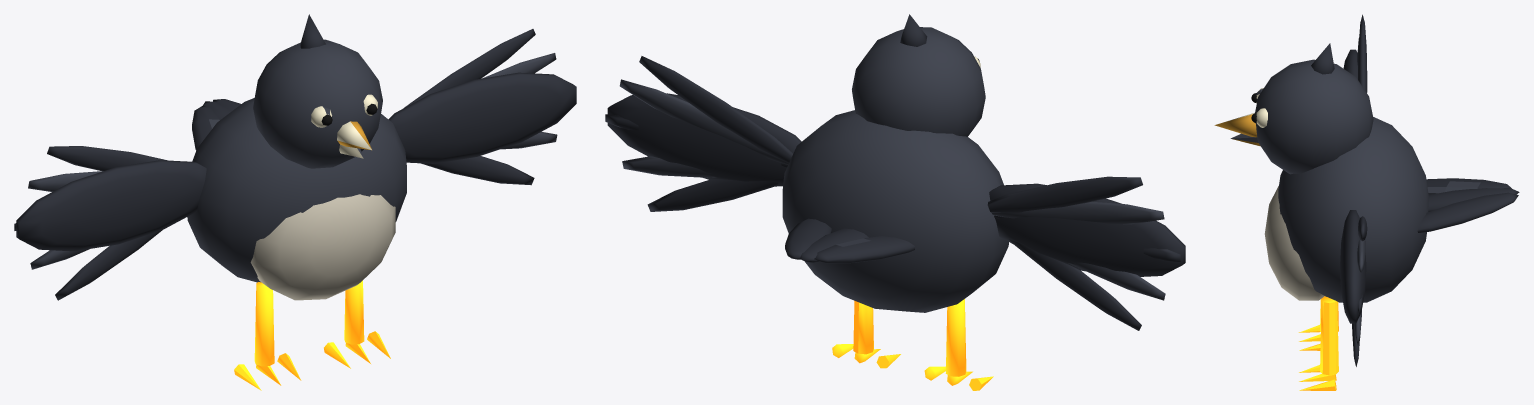
Rendered from bird.glb.
The picture shows the model from 3 angles, left to right: view 1: azimuth 30°, elevation 25°; view 2: azimuth 150°, elevation 25°; view 3: azimuth 270°, elevation 25°; orthographic projection. The views are drawn at different scales.
Parts seen in each view (by area): view 1: bird_body, wing_left, wing_right, feet; view 2: bird_body, wing_left, wing_right, feet; view 3: bird_body, wing_right, feet, wing_left.
Boxes of the visible parts, left/top/right/bottom form: bird_body: left=187, top=14, right=406, bottom=300; wing_left: left=14, top=146, right=206, bottom=300; wing_right: left=388, top=29, right=576, bottom=185; feet: left=234, top=280, right=390, bottom=390; bird_body: left=782, top=14, right=1008, bottom=312; wing_left: left=987, top=176, right=1185, bottom=330; wing_right: left=605, top=56, right=801, bottom=211; feet: left=832, top=299, right=993, bottom=390; bird_body: left=1214, top=43, right=1519, bottom=302; wing_right: left=1340, top=210, right=1367, bottom=366; feet: left=1298, top=296, right=1338, bottom=390; wing_left: left=1343, top=14, right=1367, bottom=92.
Bounding box in the file's own units: 3.73 × 2.23 × 1.94.
